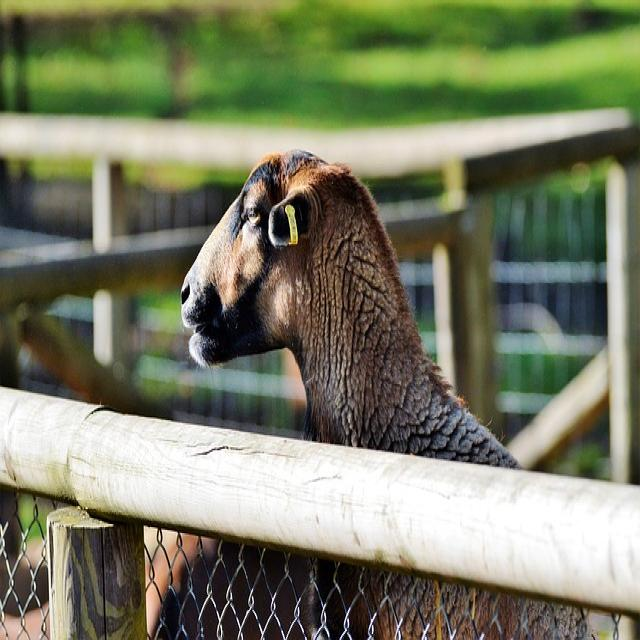sheep: (174, 146, 595, 639)
